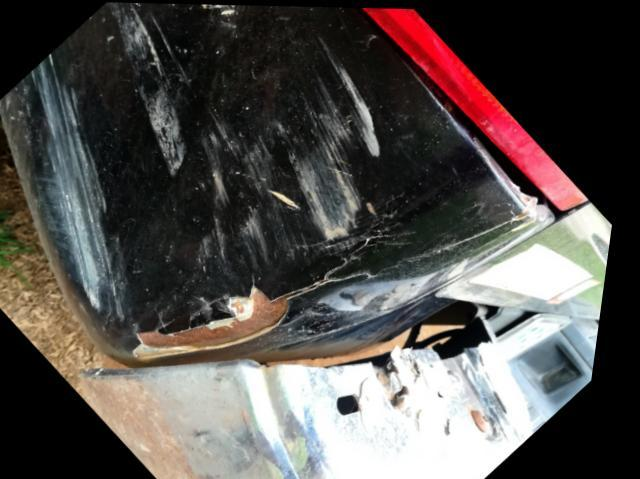crack: (144, 250, 381, 359)
scratch: (114, 2, 392, 290), (18, 45, 140, 323)
